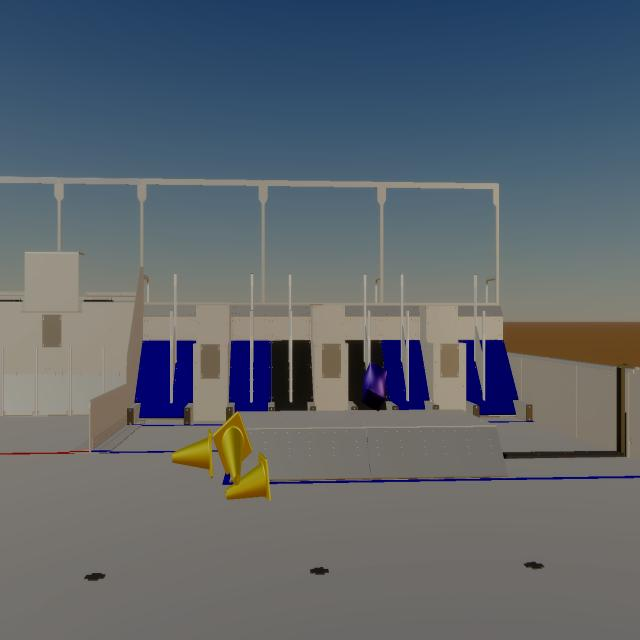frc_cone: (213, 411, 252, 485), (226, 452, 272, 500), (172, 429, 213, 478)
frc_cube: (362, 362, 387, 411)
